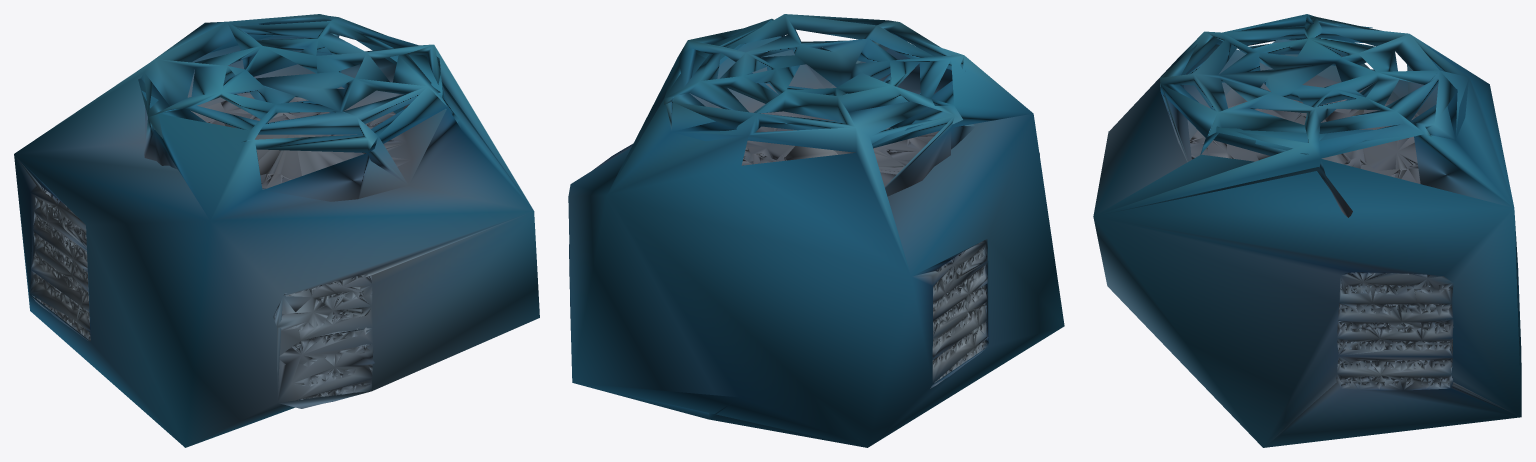
Rendered from meshy-acunit.glb.
3 renders of one model, left to right at view 1: azimuth 30°, elevation 25°; view 2: azimuth 150°, elevation 25°; view 3: azimuth 270°, elevation 25°, orthographic. The views are drawn at different scales.
Visible parts, largest first — view 1: Mesh_0; view 2: Mesh_0; view 3: Mesh_0.
Part boxes in pixels (x1=…): Mesh_0: x1=14, y1=14, x2=539, y2=447; Mesh_0: x1=568, y1=14, x2=1064, y2=447; Mesh_0: x1=1093, y1=14, x2=1521, y2=447.
Size of the model in its own units: 2.01 by 1.35 by 1.88.
